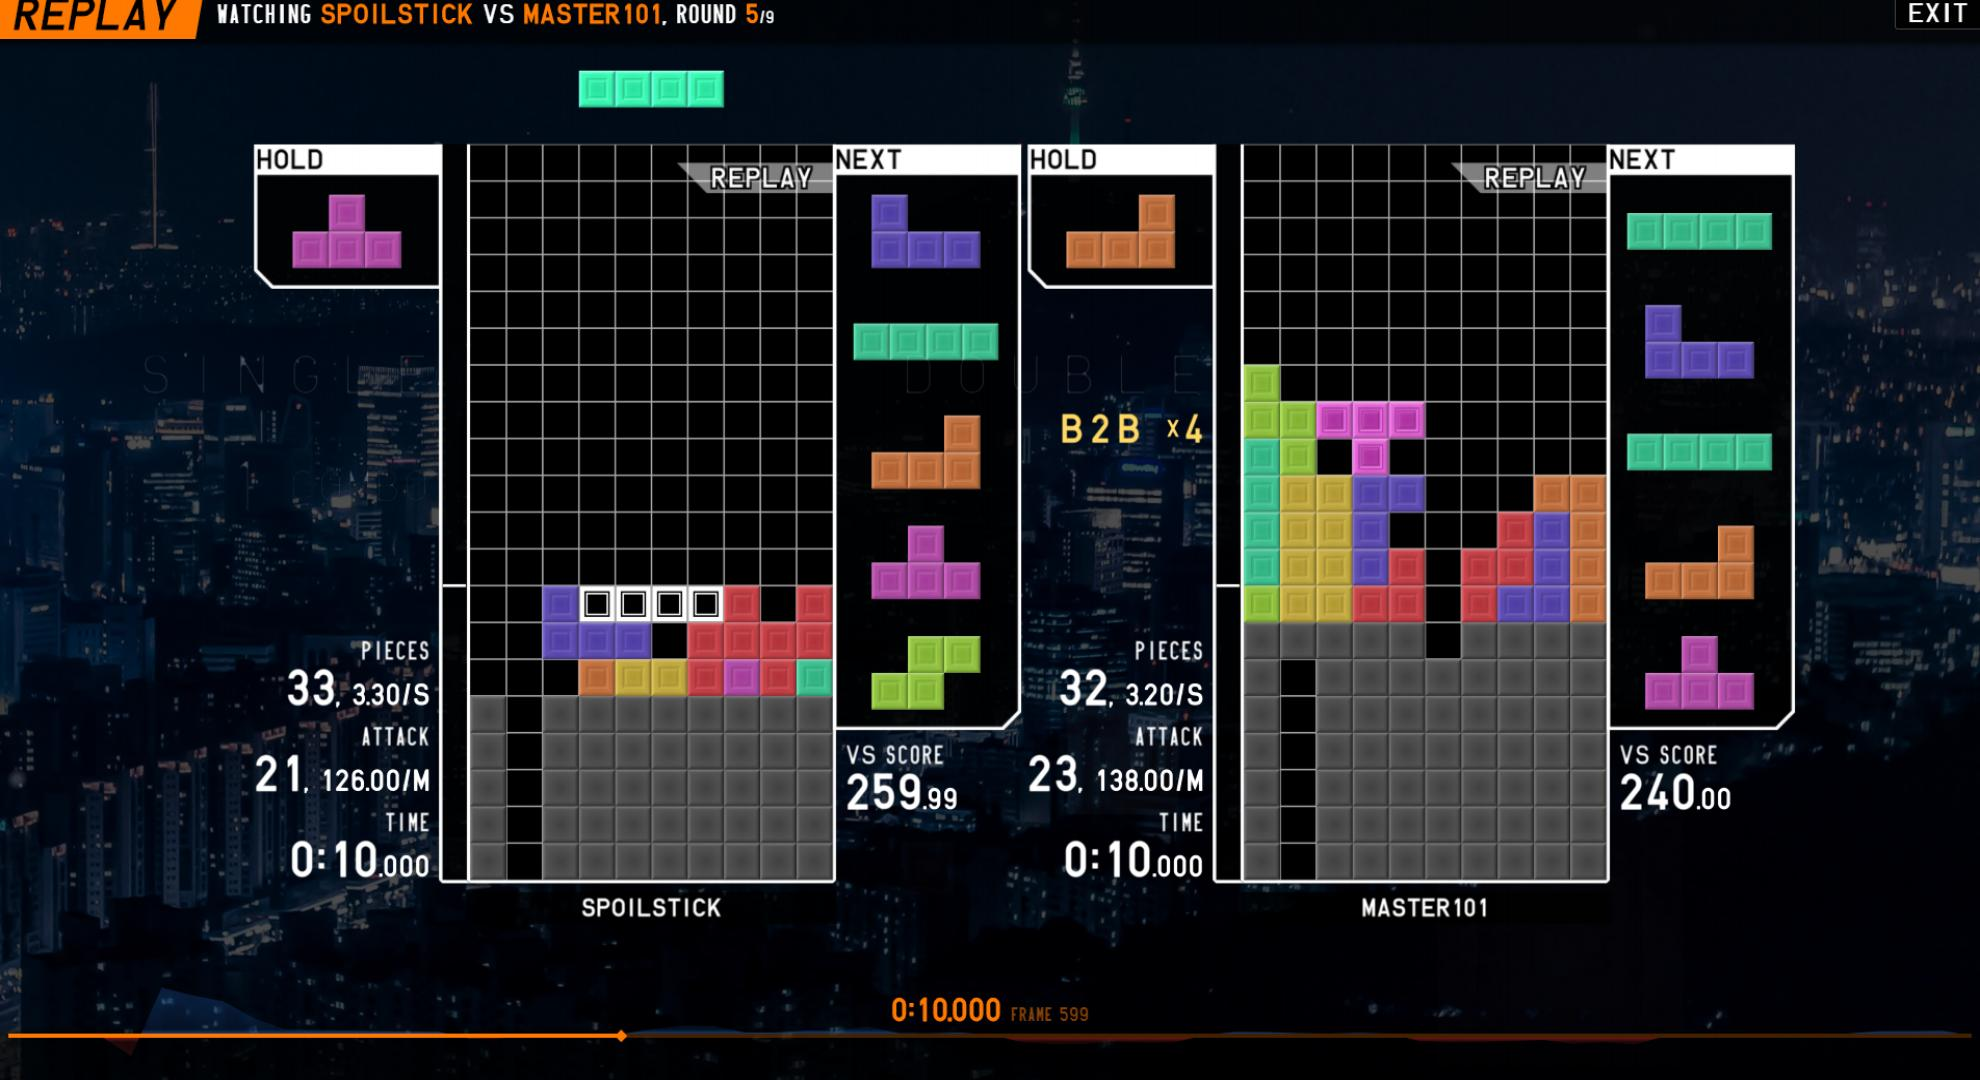tspin: (1386, 475, 1501, 591), (465, 621, 582, 736)
